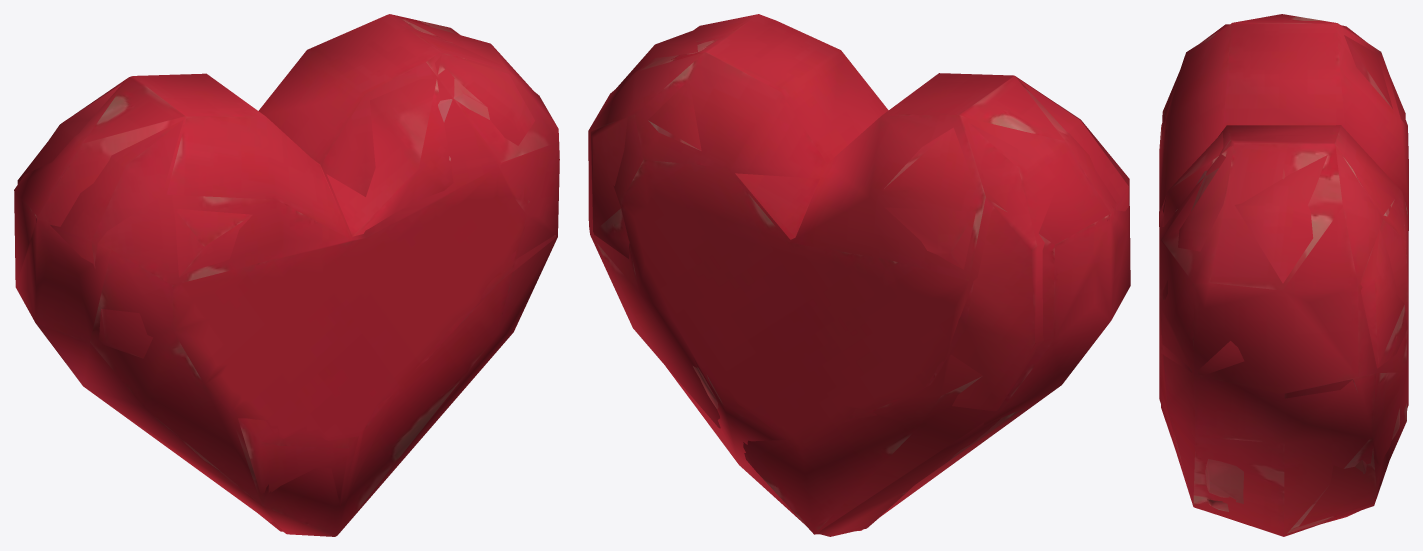
Rendered from heart.glb.
3 renders of one model, left to right at view 1: azimuth 30°, elevation 25°; view 2: azimuth 150°, elevation 25°; view 3: azimuth 270°, elevation 25°, orthographic. The views are drawn at different scales.
Parts seen in each view (by area): view 1: Mesh_0; view 2: Mesh_0; view 3: Mesh_0.
Boxes of the visible parts, x1,y1,x2,y2 form: Mesh_0: (14,14,559,536); Mesh_0: (588,14,1130,536); Mesh_0: (1159,14,1408,536).
Bounding box in the file's own units: 0.5581 × 0.4969 × 0.2485.
1 material, 1 textured.
